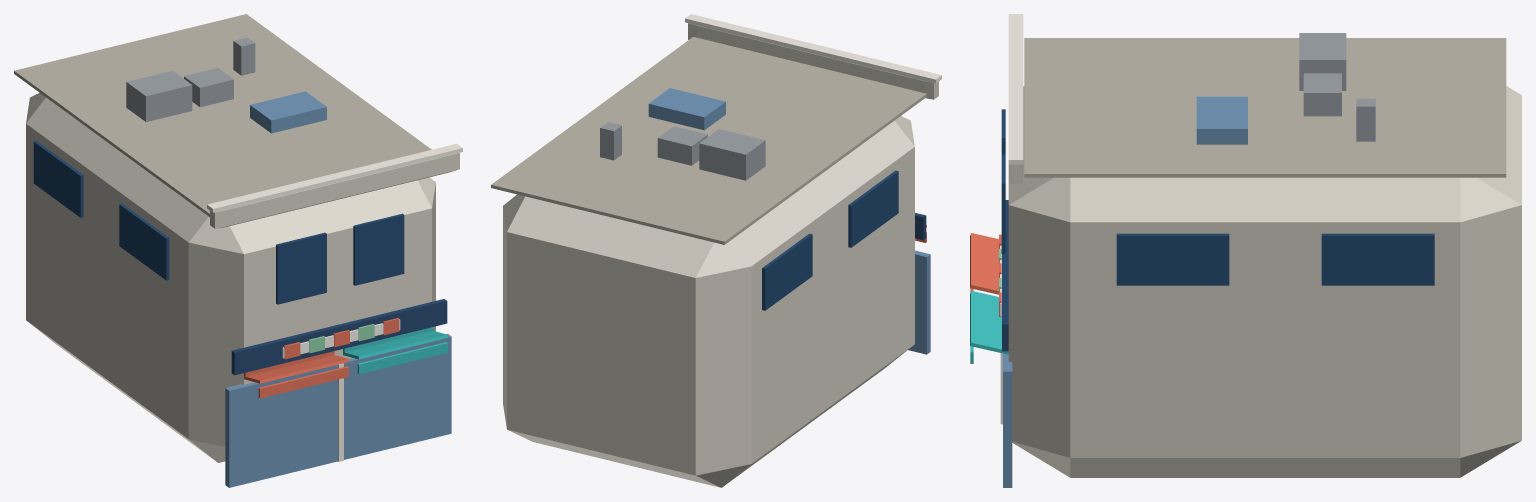
File: bakery.glb
The picture shows the model from 3 angles, left to right: view 1: azimuth 30°, elevation 25°; view 2: azimuth 150°, elevation 25°; view 3: azimuth 270°, elevation 25°; orthographic projection. The views are drawn at different scales.
Parts seen in each view (by area): view 1: walls, roofslab, shopglass, parapet, fascia, win.001, win, hvac, pcap, sb, sb.002, skylt (+8 smaller); view 2: walls, roofslab, parapet, hvac, pcap, sb, sb.002, skylt, shopglass, hvac2, pipe; view 3: walls, roofslab, sb.003, sb.001, skylt, pcap, hvac, awn.001, hvac2, awn, shopglass, fascia (+1 smaller).
Boxes of the visible parts, x1,y1,x2,y2 form: walls: (26, 93, 435, 462); roofslab: (14, 14, 431, 216); shopglass: (225, 334, 451, 487); parapet: (210, 153, 459, 228); fascia: (231, 299, 447, 375); win.001: (353, 213, 404, 285); win: (276, 232, 326, 304); hvac: (126, 70, 192, 121); pcap: (207, 143, 462, 212); sb: (119, 203, 169, 280); sb.002: (33, 141, 83, 217); skylt: (250, 91, 326, 133); walls: (503, 116, 914, 487); roofslab: (491, 37, 926, 244); parapet: (688, 23, 938, 99); hvac: (699, 129, 765, 180); pcap: (685, 14, 941, 83); sb: (848, 170, 898, 247); sb.002: (762, 233, 812, 310); skylt: (648, 88, 725, 130); shopglass: (908, 250, 930, 354); hvac2: (657, 126, 707, 165); pipe: (600, 122, 621, 160); walls: (1008, 86, 1521, 477); roofslab: (1024, 38, 1506, 177); sb.003: (1321, 233, 1434, 285); sb.001: (1116, 233, 1229, 285); skylt: (1196, 96, 1247, 144); pcap: (1008, 14, 1023, 164); hvac: (1299, 33, 1346, 90); awn.001: (970, 290, 1008, 354); hvac2: (1303, 73, 1341, 116); awn: (970, 233, 998, 294); shopglass: (1003, 353, 1012, 487); fascia: (1002, 200, 1008, 351).
Size of the model in its own units: 8.2 by 9.1 by 12.91.
